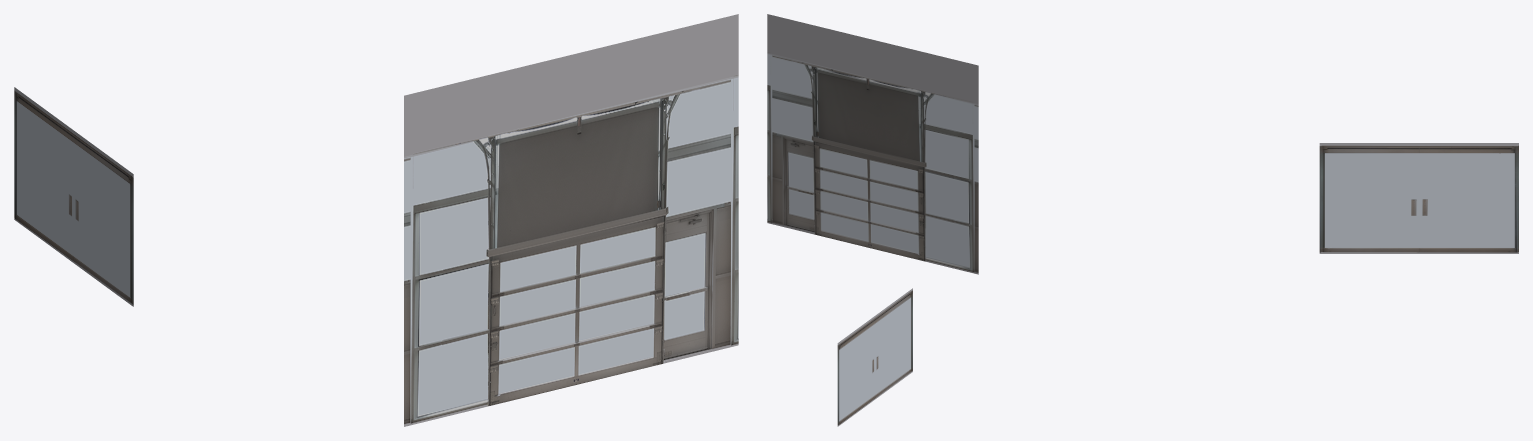
Rendered from doors.glb.
The picture shows the model from 3 angles, left to right: view 1: azimuth 30°, elevation 25°; view 2: azimuth 150°, elevation 25°; view 3: azimuth 270°, elevation 25°; orthographic projection. The views are drawn at different scales.
Visible parts, largest first — view 1: frontdoor, sidedoor; view 2: frontdoor, sidedoor; view 3: sidedoor.
Boxes of the visible parts, x1,y1,x2,y2 form: frontdoor: (404,14,738,426); sidedoor: (14,87,133,306); frontdoor: (767,14,978,274); sidedoor: (837,288,912,426); sidedoor: (1319,143,1518,253).
Size of the model in its own units: 23.05 by 17.46 by 29.28.
Materials: 2 (2 with a texture image).
